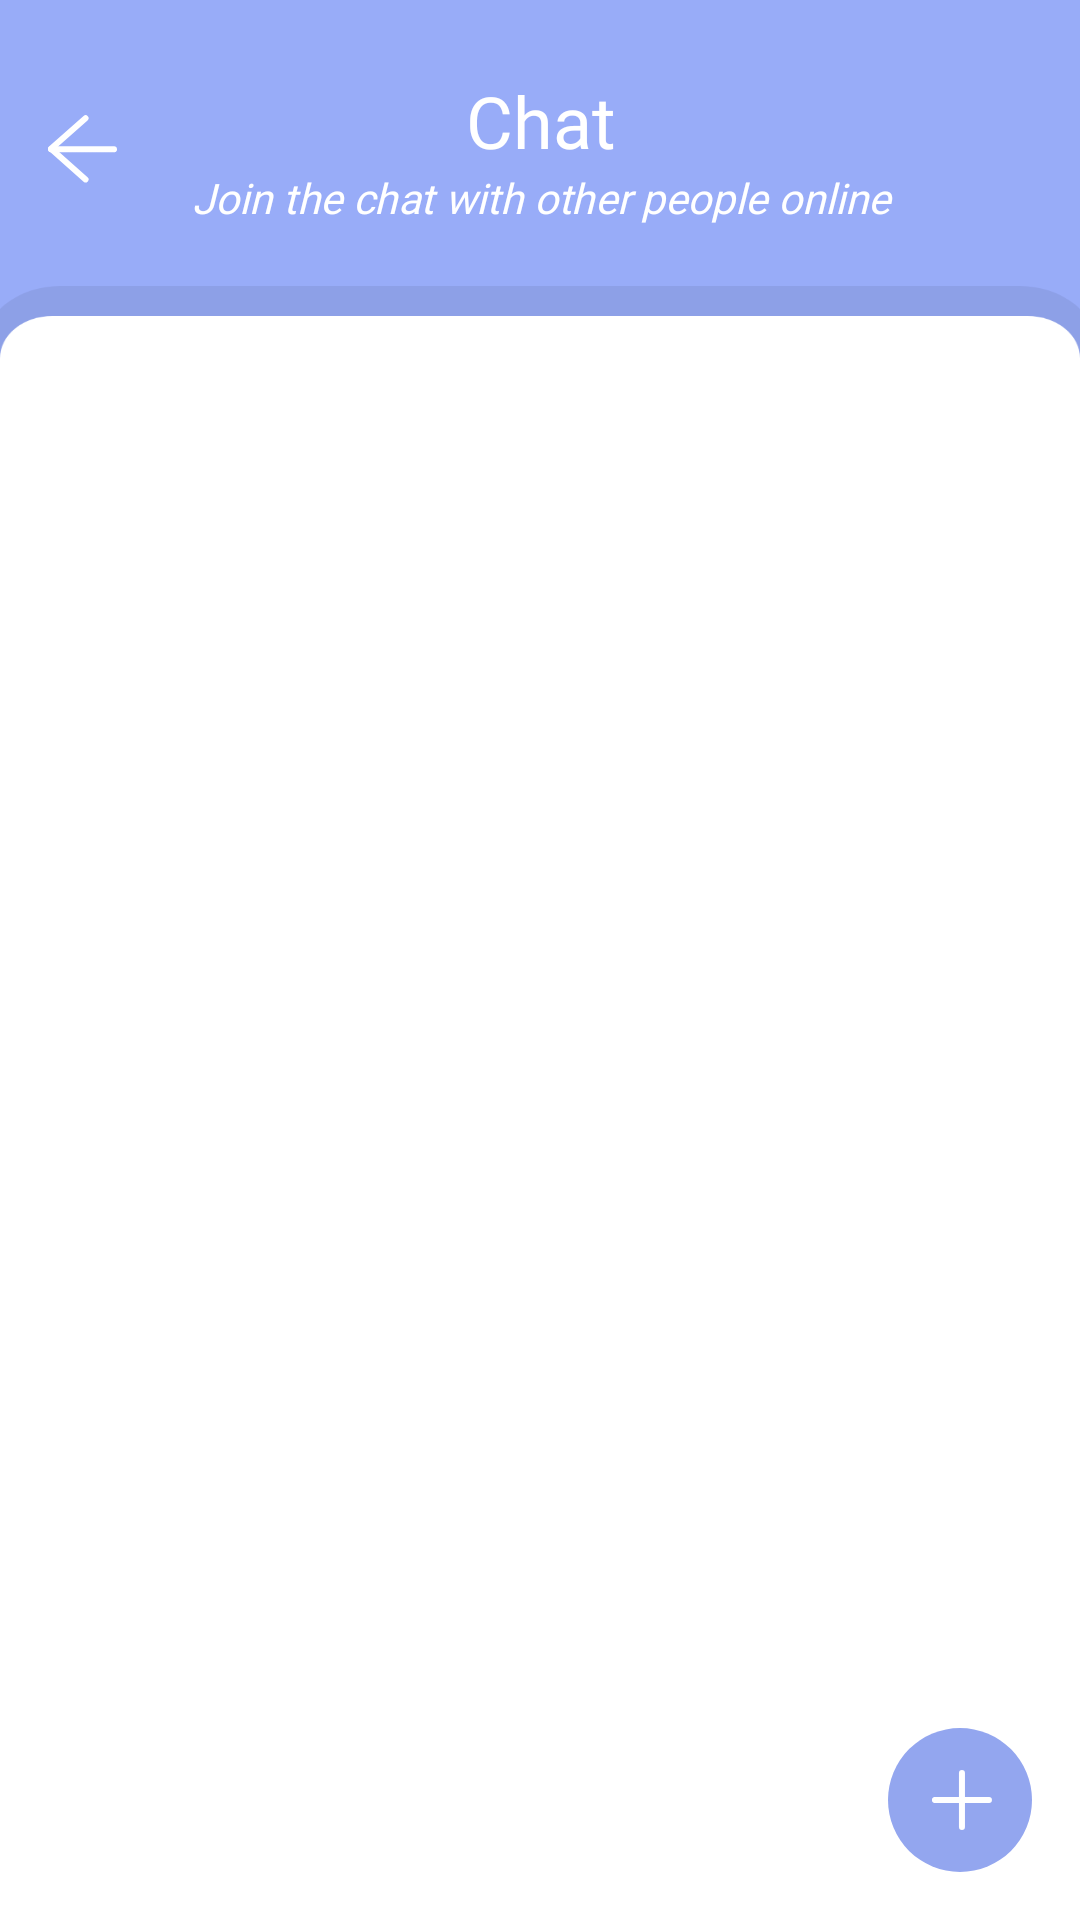

Screen size 1080×1920. Icon name, then its center in pixels as point (x, y):
add room: point (960, 1800)
